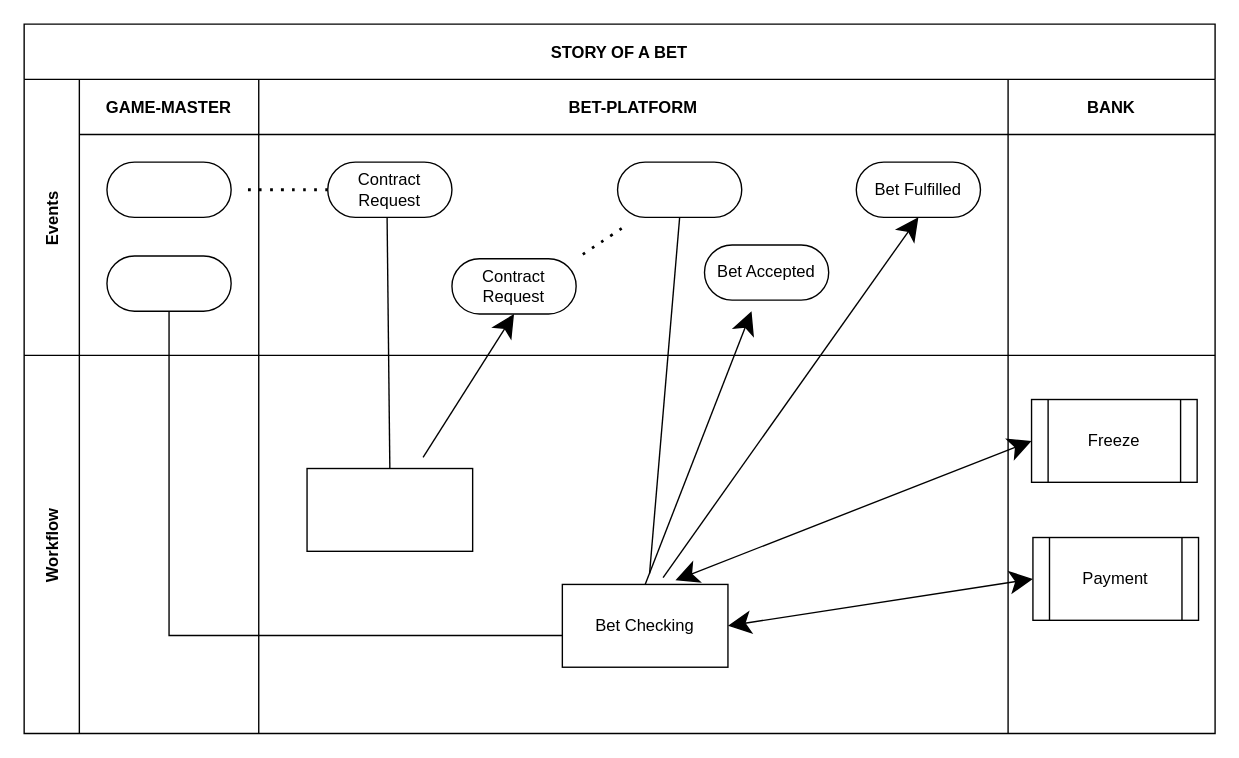
The diagram is 1239 pixels wide and 758 high, and some of its shapes have lost their labels. The shapes that lost their labels are listed below. From the top down, each one's centre as x and y in pixels, then its label:
(168,189): Game Published
(679,189): Bet Request
(168,283): Game Ended
(389,509): Contract Checking
